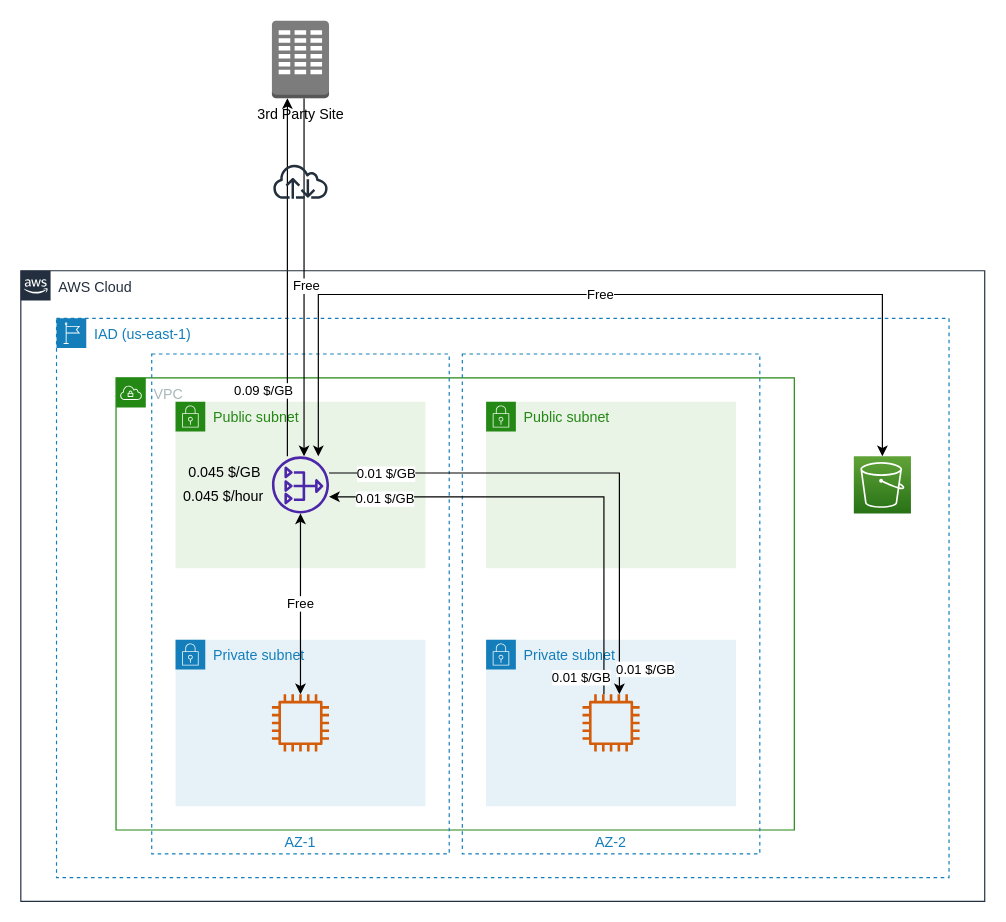
Some shapes in this 1006 by 922 pixel diagram are drawn without their labels. The centre of each missing label's shape, as x and y in pixels:
Instance-1: (299,722)
Instance-2: (610,722)
Internet: (299,180)
NAT Gateway: (299,484)
S3: (882,484)
